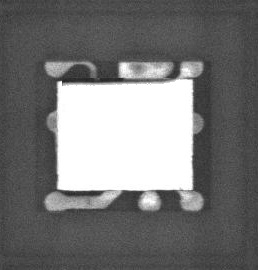DIE_BROKEN: (60, 76, 178, 85)
